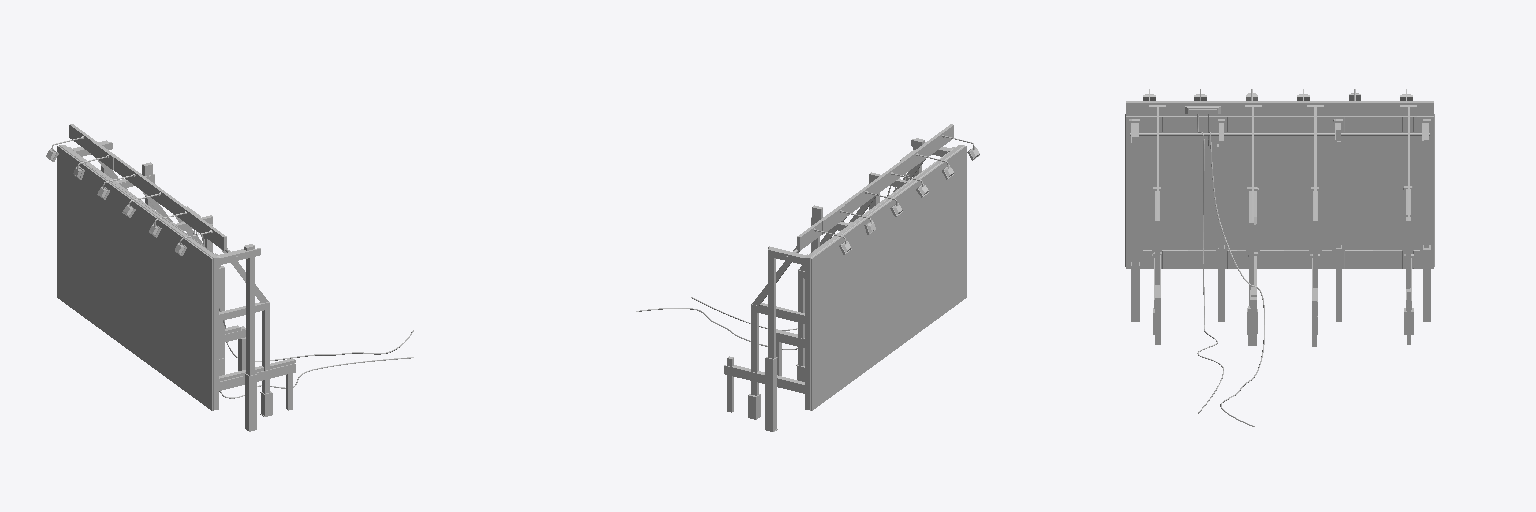
Rendered from SignBig.obj.
3 renders of one model, left to right at view 1: azimuth 30°, elevation 25°; view 2: azimuth 150°, elevation 25°; view 3: azimuth 270°, elevation 25°, orthographic.
Parts seen in each view (by area): view 1: banner; view 2: banner; view 3: banner.
Boxes of the visible parts, <box> form: banner: <box>46,124,413,431</box>; banner: <box>636,124,979,431</box>; banner: <box>1125,89,1434,426</box>.
Bounding box in the file's own units: 45.94 × 30.76 × 42.45.